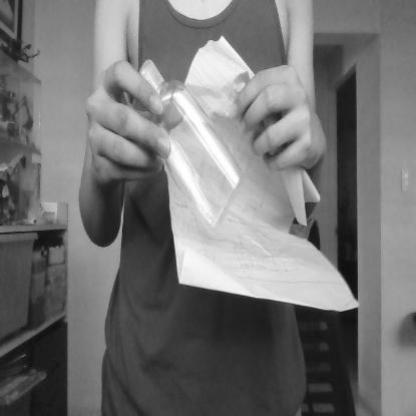Plastic Bottle: (133, 56, 244, 237)
